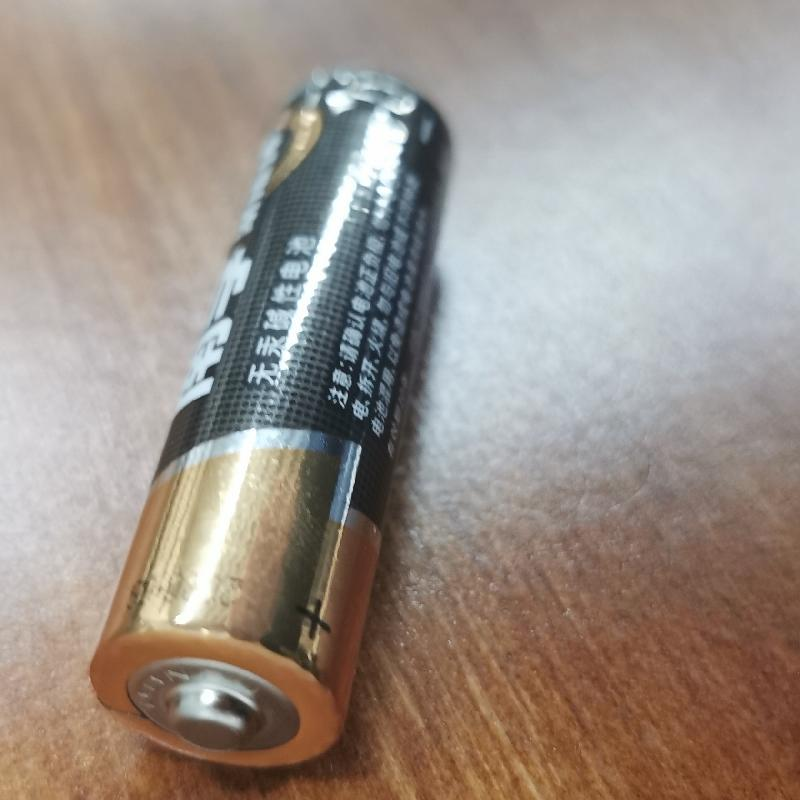battery: (85, 63, 451, 773)
